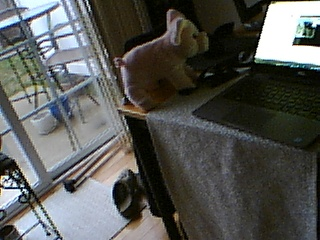piggy: (112, 7, 211, 112)
